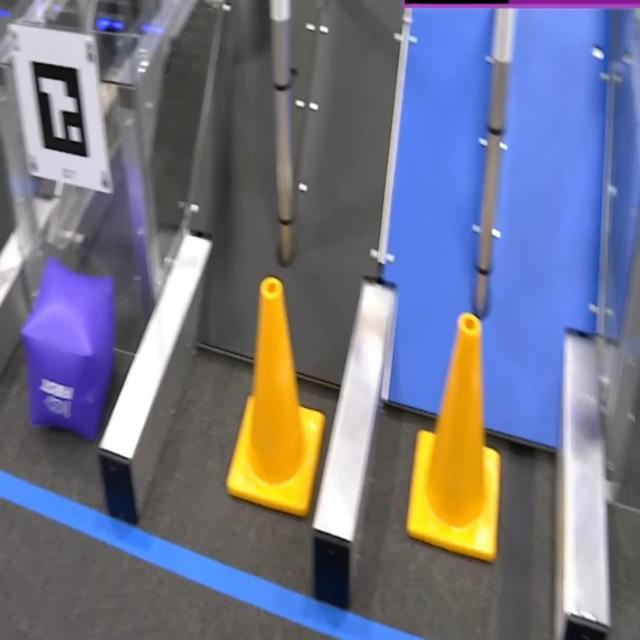frc_cone: (407, 311, 501, 565), (226, 275, 323, 516)
frc_cube: (23, 260, 113, 442)
